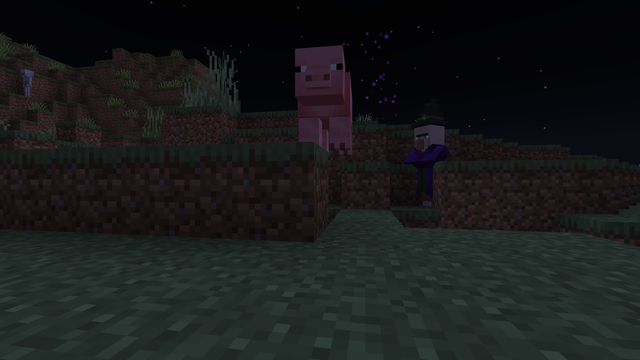cochons: (287, 70, 361, 154)
sorcieres: (413, 120, 445, 206)
squelettes: (19, 68, 35, 97)
